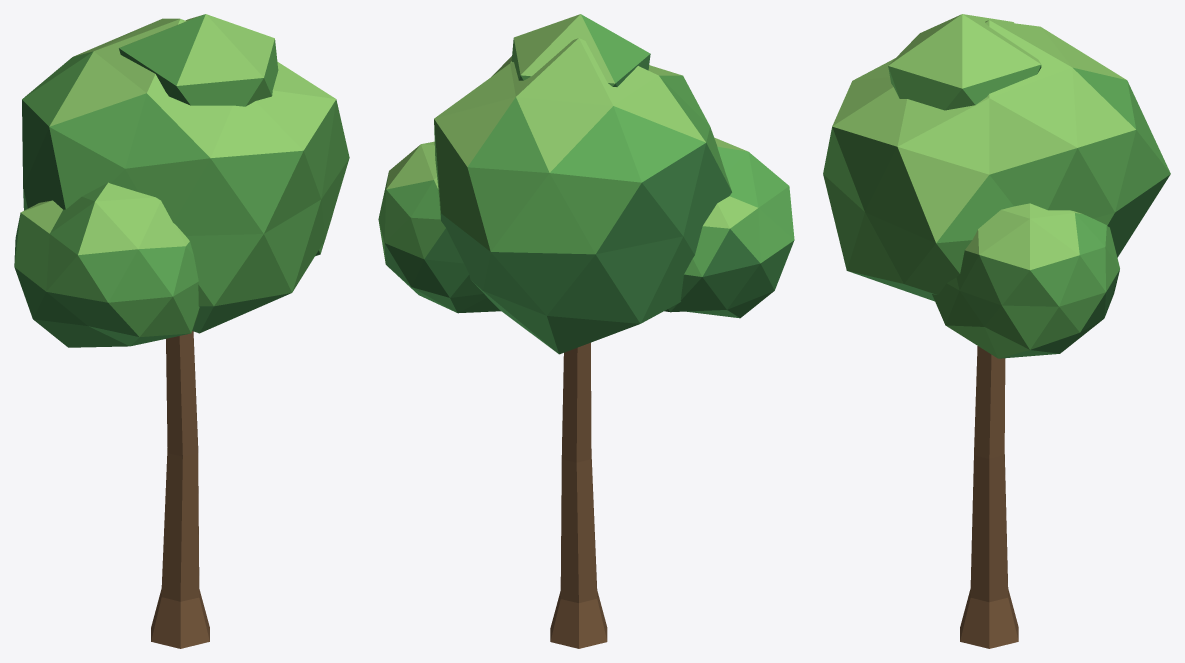
File: tree_small_a.glb
3 renders of one model, left to right at view 1: azimuth 30°, elevation 25°; view 2: azimuth 150°, elevation 25°; view 3: azimuth 270°, elevation 25°, orthographic. The views are drawn at different scales.
Parts seen in each view (by area): view 1: tree_small_a; view 2: tree_small_a; view 3: tree_small_a.
Part boxes in pixels (x1,y1,x2,y2): tree_small_a: (14, 14, 349, 648); tree_small_a: (378, 14, 794, 648); tree_small_a: (823, 14, 1170, 648).
Bounding box in the file's own units: 3.01 × 5.1 × 2.57.
